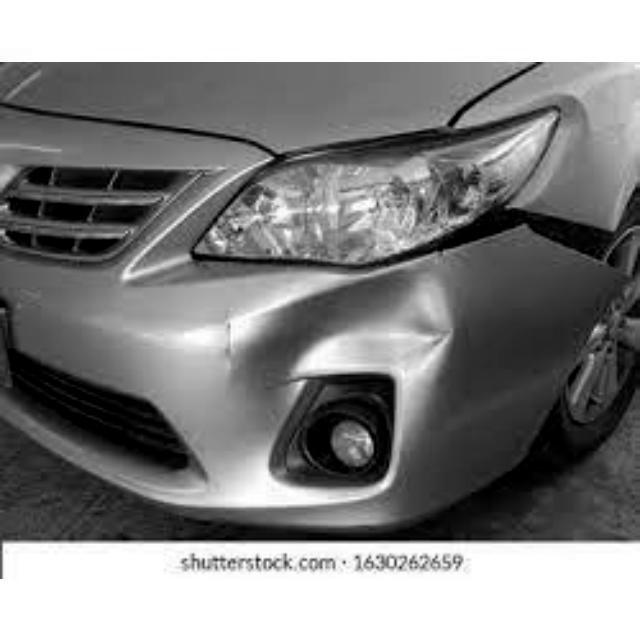front-bumper-dent: (83, 216, 628, 507)
